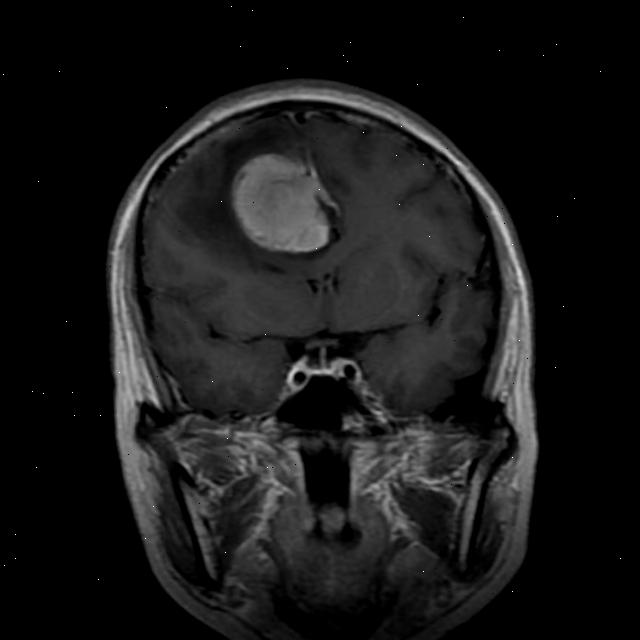Meningioma: (225, 144, 343, 260)
